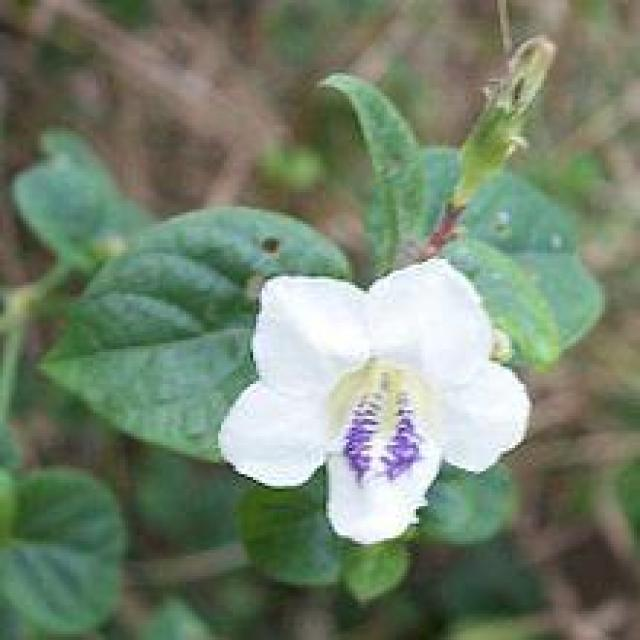organic waste: (215, 269, 538, 537)
